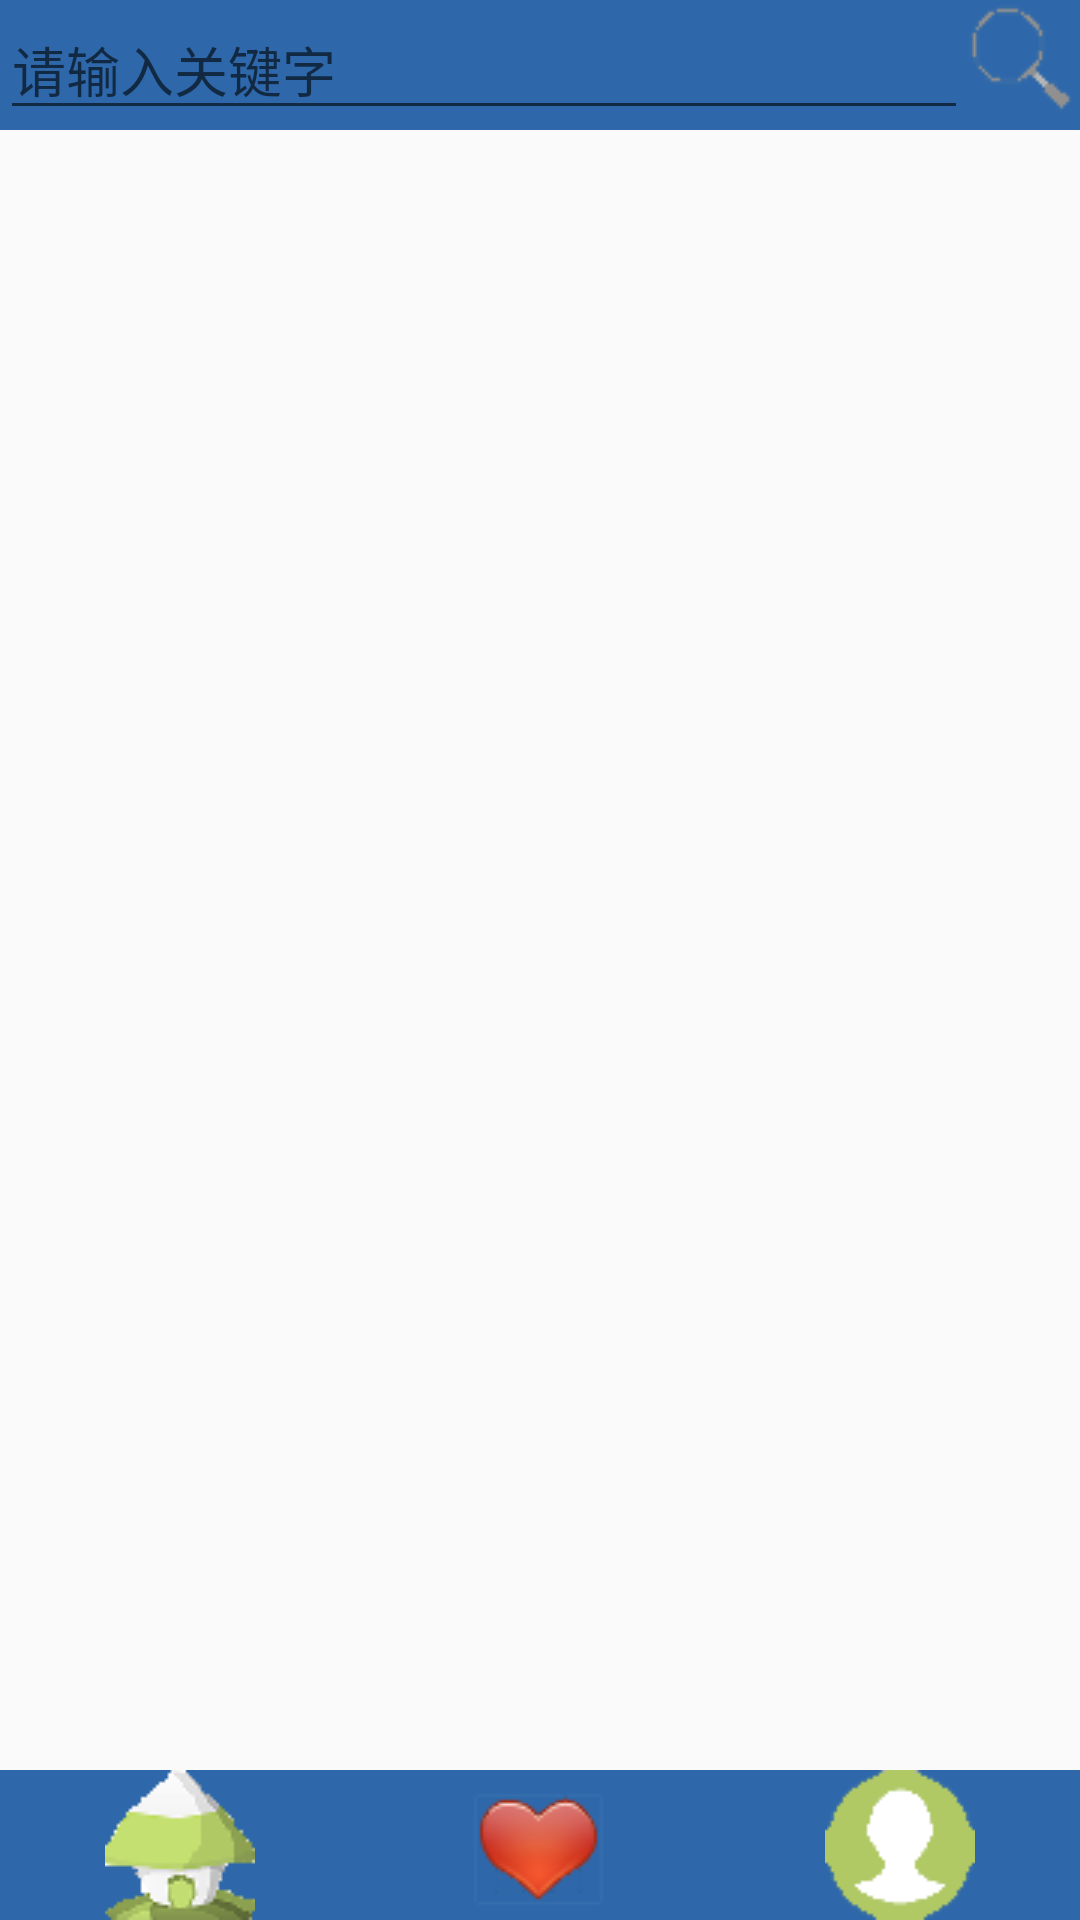

Icon bounding boxes for this 1080x1920 phone screenshot, format (x1, y1, x2, y2):
heart: (479, 1796, 598, 1900)
home: (0, 1770, 360, 1920)
person: (825, 1770, 975, 1920)
title search: (972, 8, 1070, 109)
